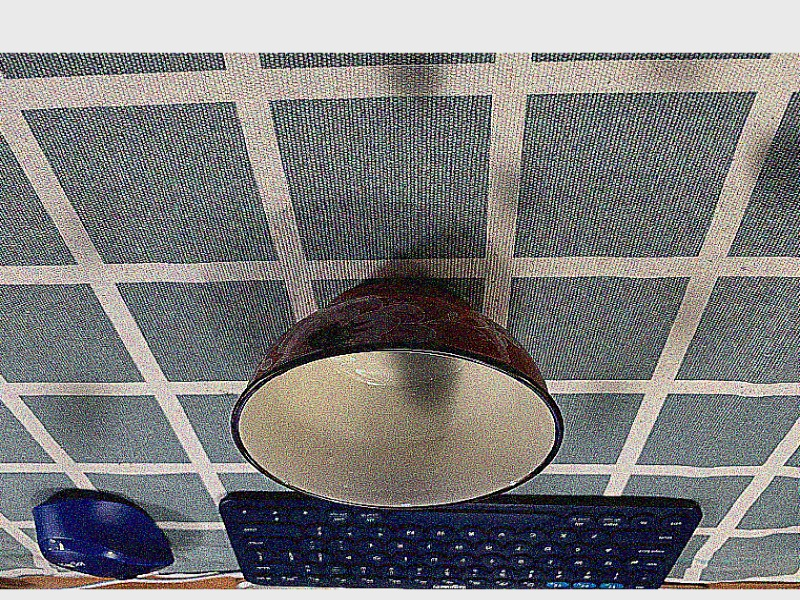bowl_small: (220, 271, 568, 515)
